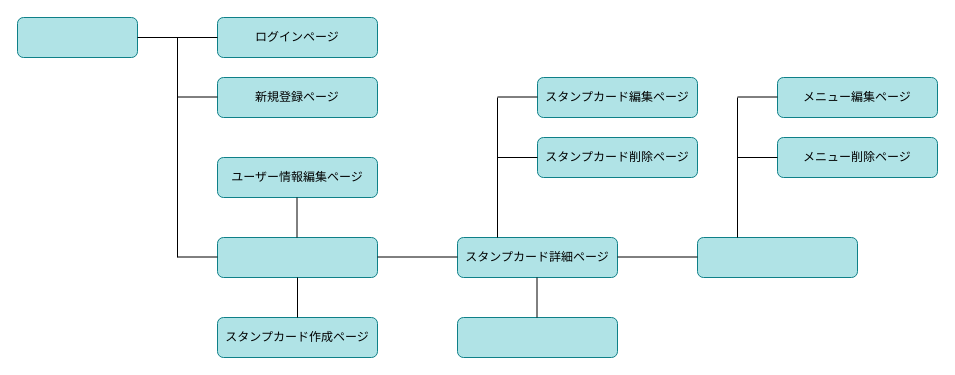
Some shapes in this 955 by 375 pixel diagram are drawn without their labels. Each missing label, with the centre of its shape:
スタンプカード一覧ページ（ホーム画面）: the point at 297,257
トップページ: the point at 77,37
メニュー詳細ページ: the point at 777,257
メニュー追加ページ: the point at 537,337
